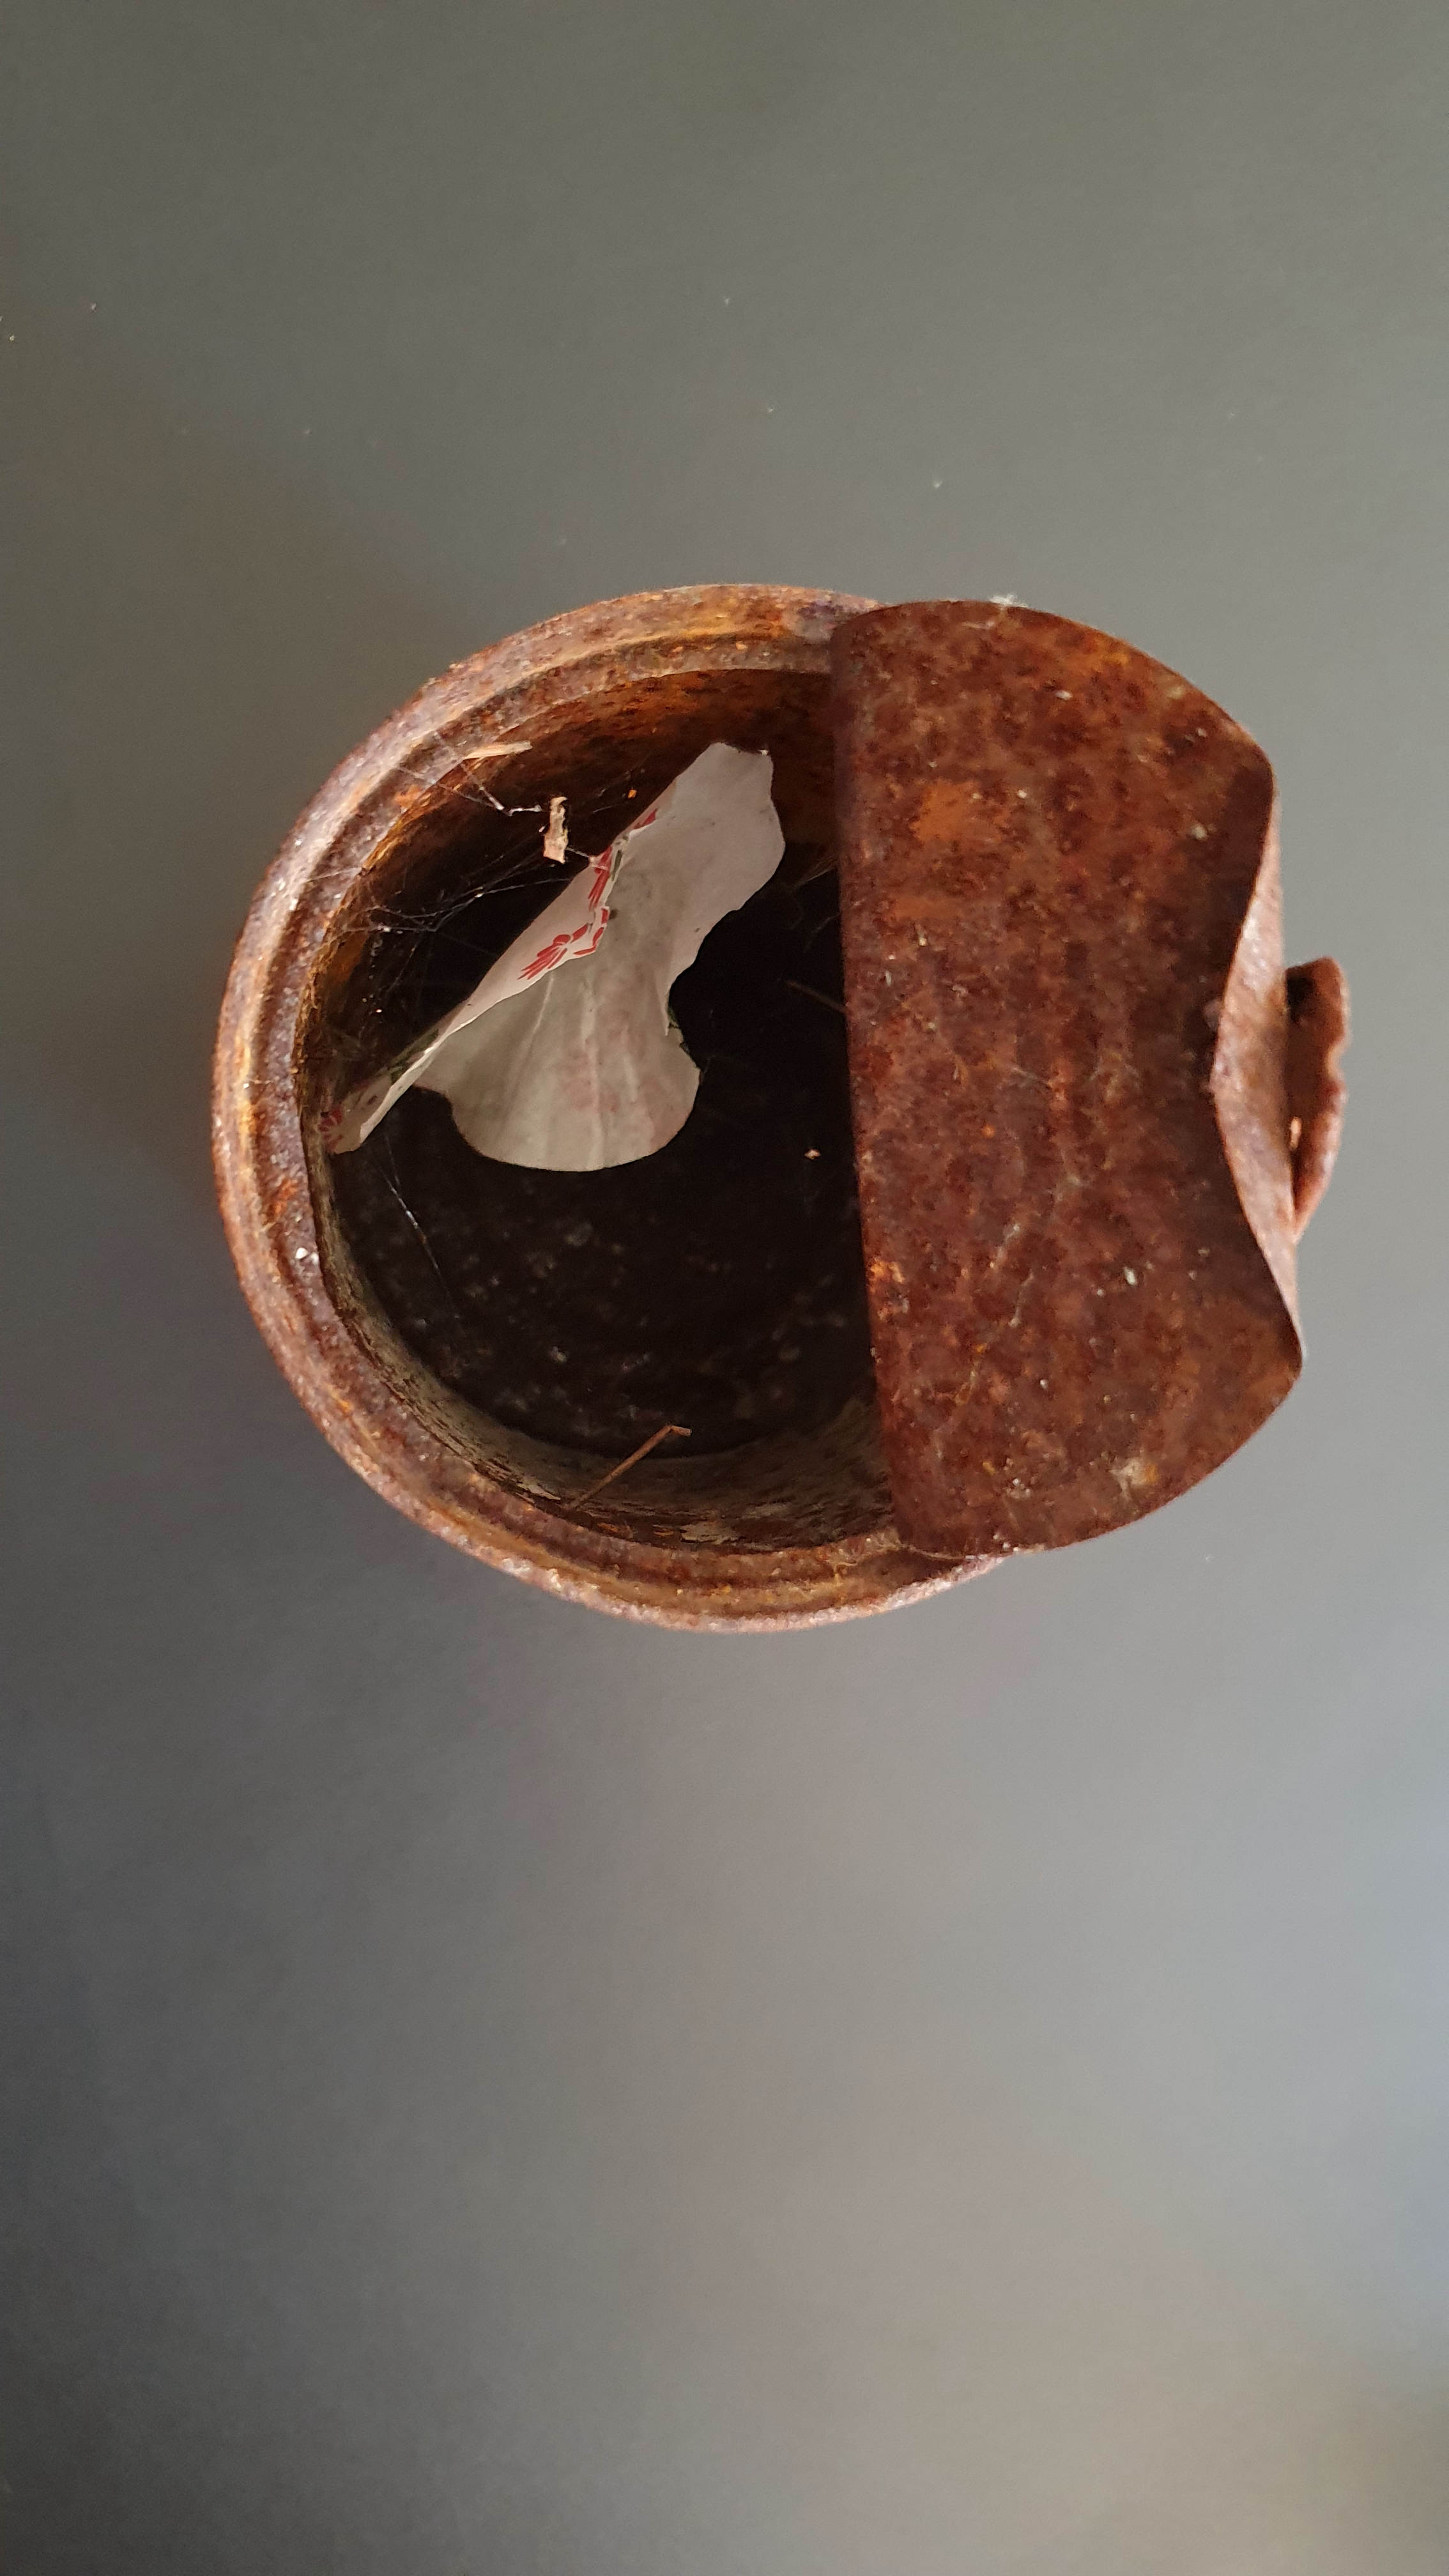metal: (177, 510, 1375, 1640)
